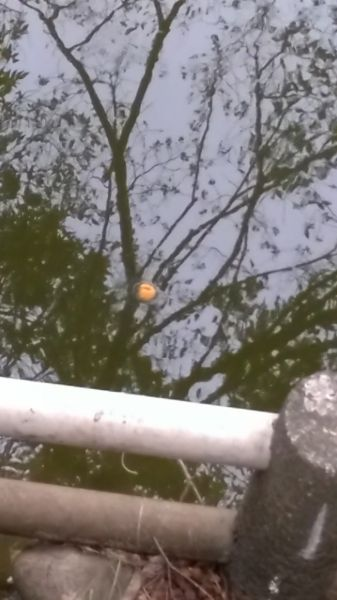eggs: (131, 278, 161, 304)
